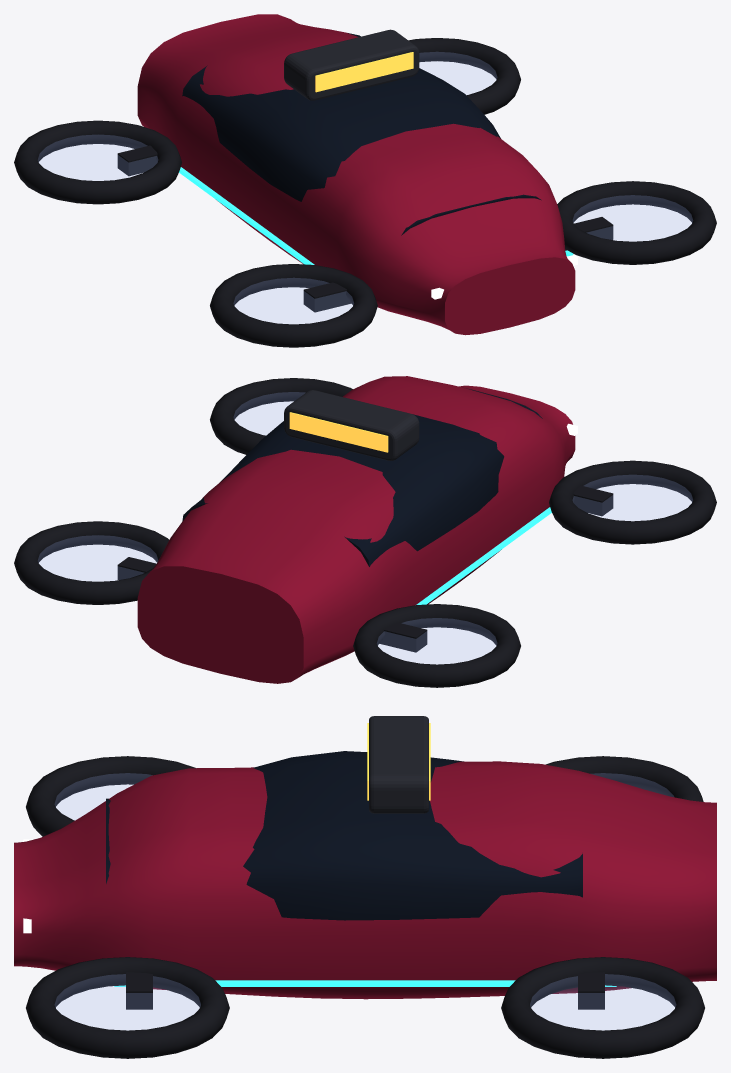
The model's file is tr_aircab.glb.
The picture shows the model from 3 angles, top to bottom: view 1: azimuth 30°, elevation 25°; view 2: azimuth 150°, elevation 25°; view 3: azimuth 270°, elevation 25°; orthographic projection. The views are drawn at different scales.
Visible parts, largest first — view 1: paint, paint2, glass, rotor_disc, trim, light_amber, neon; view 2: paint, paint2, glass, rotor_disc, trim, light_amber, neon; view 3: paint, paint2, glass, rotor_disc, trim, neon.
Part boxes in pixels (<box>): paint: <box>137,14,575,335</box>; paint2: <box>14,38,716,347</box>; glass: <box>182,33,541,235</box>; rotor_disc: <box>38,52,692,323</box>; trim: <box>284,29,419,100</box>; light_amber: <box>315,52,413,92</box>; neon: <box>179,167,573,264</box>; paint: <box>137,376,575,683</box>; paint2: <box>14,378,716,687</box>; glass: <box>182,388,542,566</box>; rotor_disc: <box>38,392,692,663</box>; trim: <box>284,390,419,460</box>; light_amber: <box>289,412,388,452</box>; neon: <box>416,507,551,604</box>; paint: <box>14,761,716,999</box>; paint2: <box>26,756,704,1058</box>; glass: <box>106,751,582,920</box>; rotor_disc: <box>55,773,675,1029</box>; trim: <box>369,716,428,813</box>; neon: <box>114,980,616,986</box>.
Bounding box in the file's own units: 4.06 × 1.42 × 4.2.
